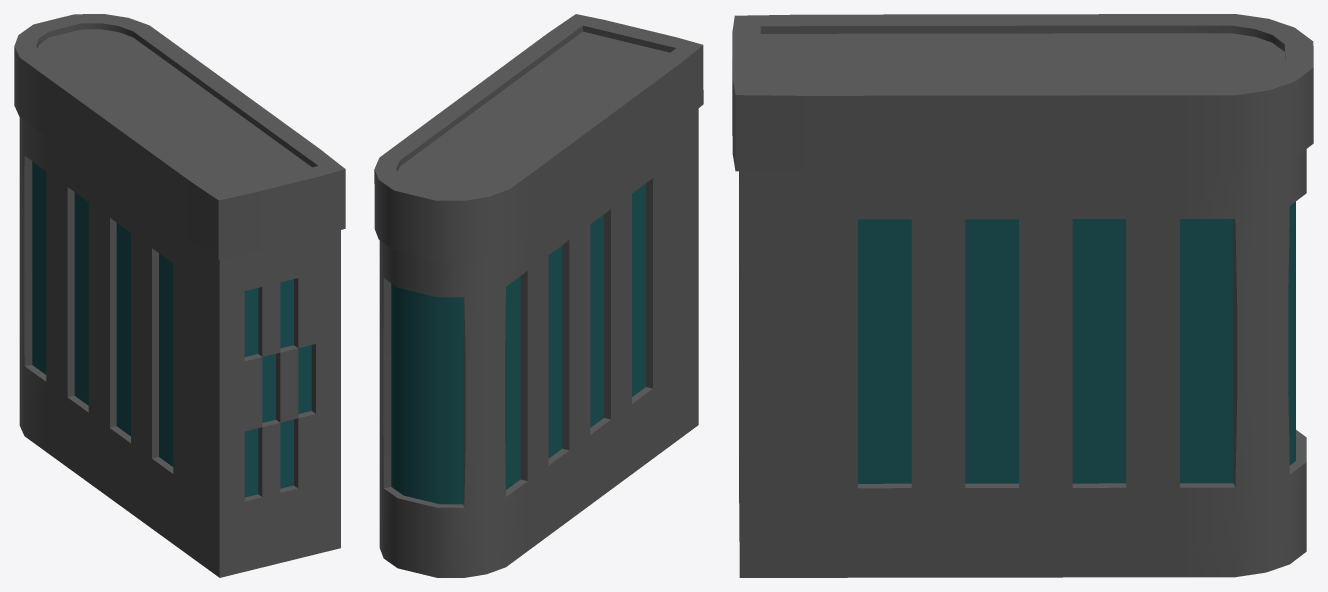
The model's file is building 12_jh_031725.fbx.
3 renders of one model, left to right at view 1: azimuth 30°, elevation 25°; view 2: azimuth 150°, elevation 25°; view 3: azimuth 270°, elevation 25°, orthographic. The views are drawn at different scales.
Parts seen in each view (by area): view 1: Cube.086, Cube.087; view 2: Cube.086, Cube.087; view 3: Cube.086, Cube.087.
Part boxes in pixels (x1,y1,x2,y2): Cube.086: [14, 14, 345, 577]; Cube.087: [32, 161, 311, 497]; Cube.086: [374, 14, 703, 577]; Cube.087: [391, 183, 645, 504]; Cube.086: [732, 14, 1313, 577]; Cube.087: [858, 201, 1295, 483].
Bounding box in the file's own units: 1005 × 2774 × 3015.
